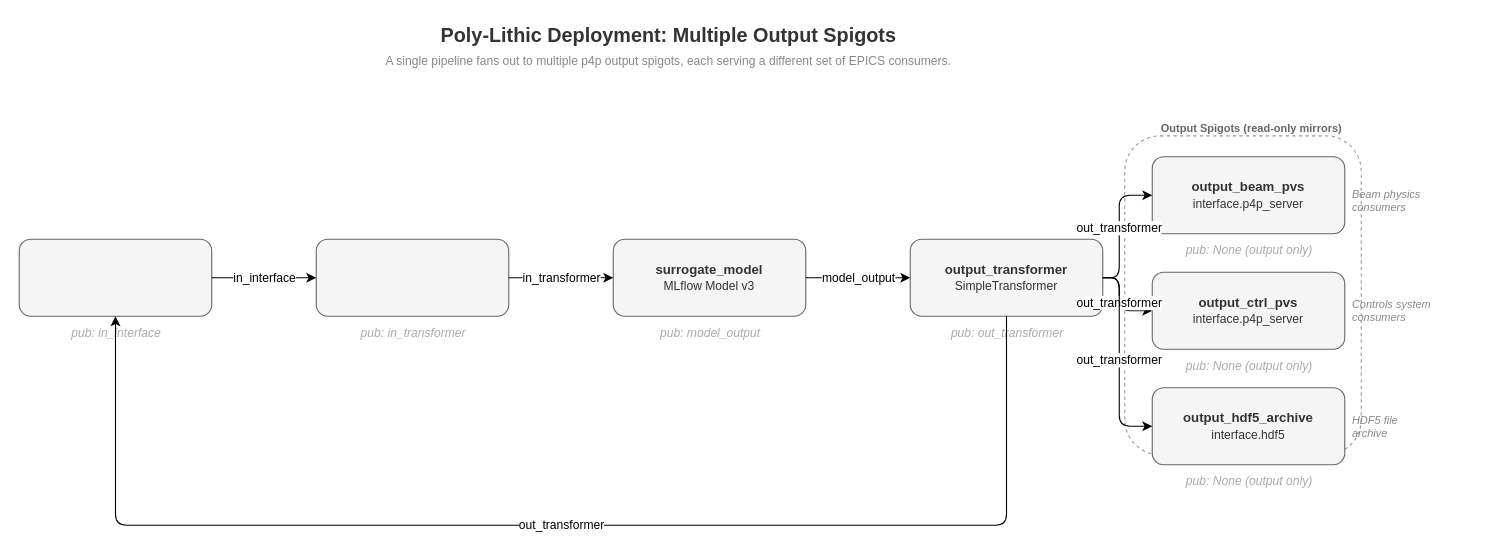
This 1491x553 diagram has some shape labels left out. Each missing label, with the centre of its shape:
"input_transformer SimpleTransformer" belongs at point (412, 277).
"p4p_server interface.p4p_server" belongs at point (115, 277).
